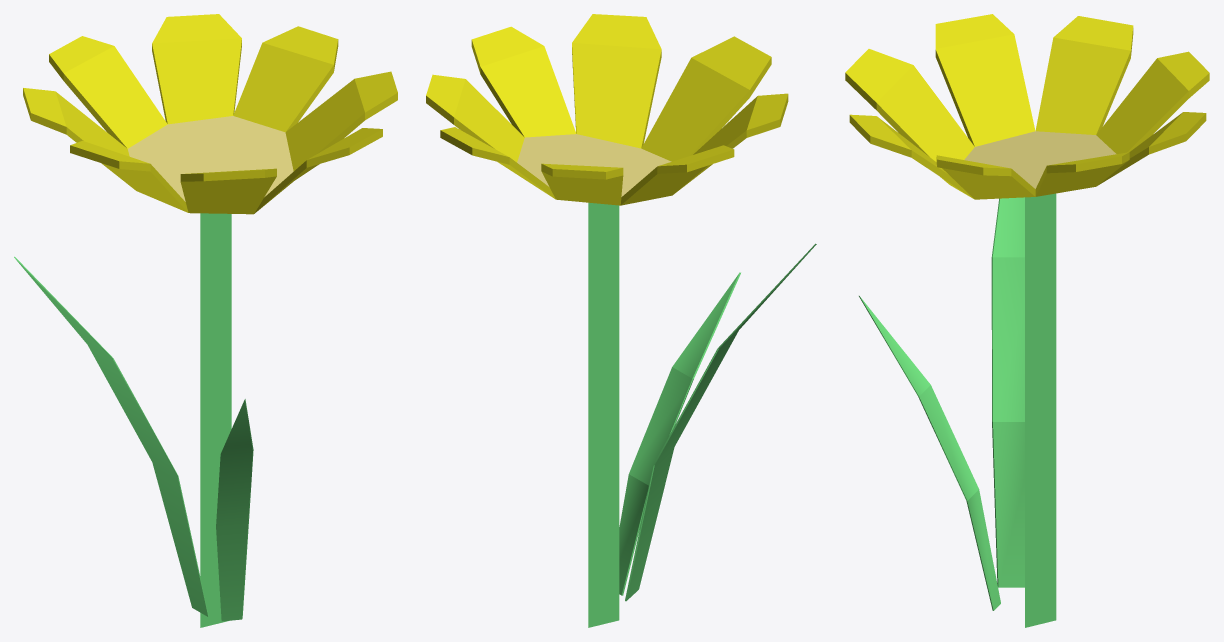
The model's file is flower1.fbx.
3 renders of one model, left to right at view 1: azimuth 30°, elevation 25°; view 2: azimuth 150°, elevation 25°; view 3: azimuth 270°, elevation 25°, orthographic.
Parts seen in each view (by area): view 1: Cylinder; view 2: Cylinder; view 3: Cylinder.
Boxes of the visible parts, <box> form: Cylinder: <box>14,14,397,627</box>; Cylinder: <box>426,14,816,627</box>; Cylinder: <box>845,14,1209,627</box>.
Size of the model in its own units: 171 by 238 by 149.
